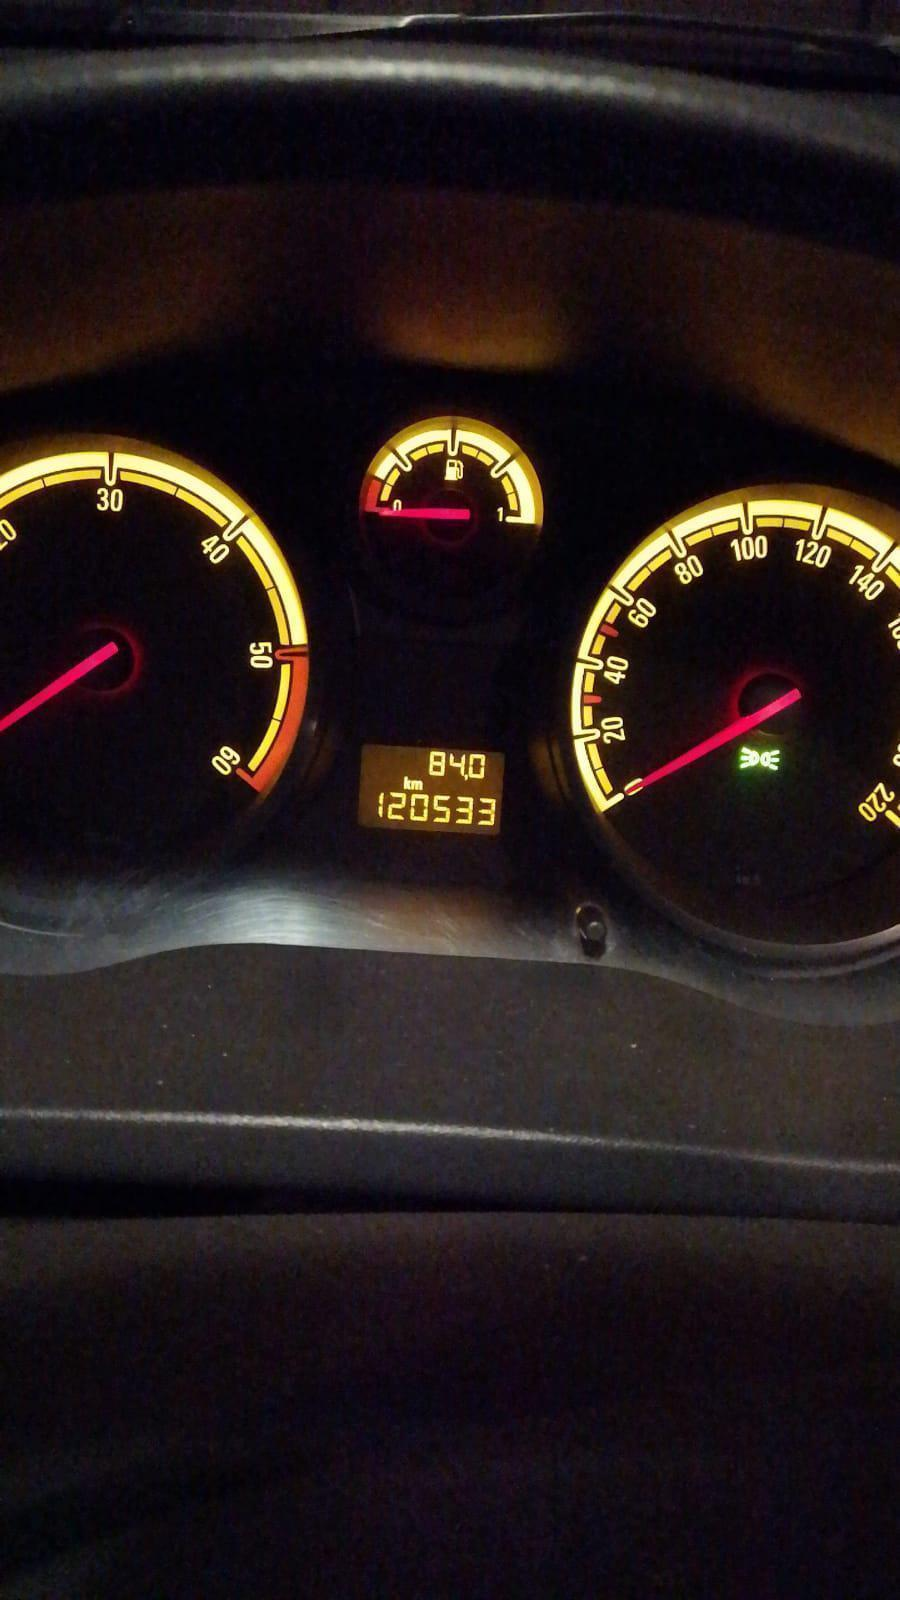,: (463, 774, 468, 781)
0: (409, 793, 429, 821), (468, 753, 485, 778)
1: (376, 791, 384, 816)
2: (386, 791, 405, 820)
3: (477, 797, 496, 825), (455, 796, 473, 824)
4: (448, 752, 465, 776)
5: (432, 795, 451, 823)
8: (427, 751, 445, 776)
X: (410, 779, 423, 790), (402, 775, 410, 790)
odometer: (354, 742, 505, 837)
